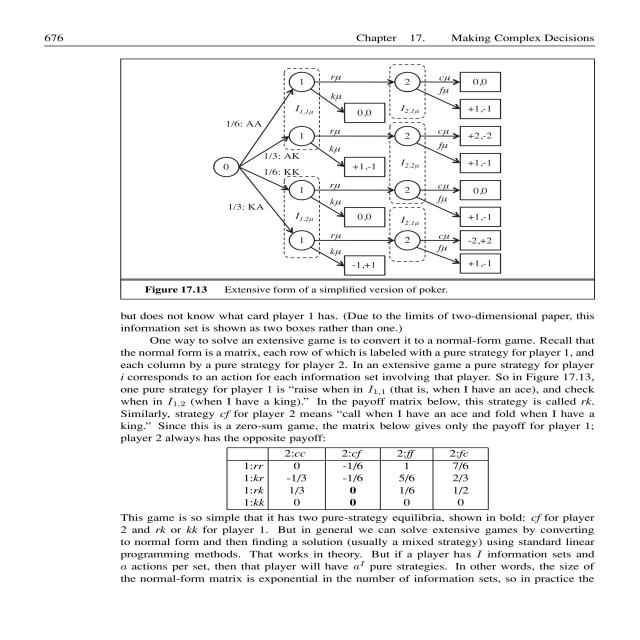diagram: (94, 59, 589, 302)
